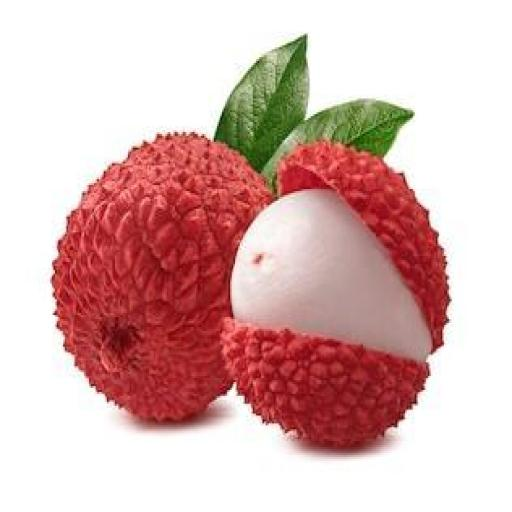lychee: (222, 142, 448, 447), (52, 134, 270, 419)
